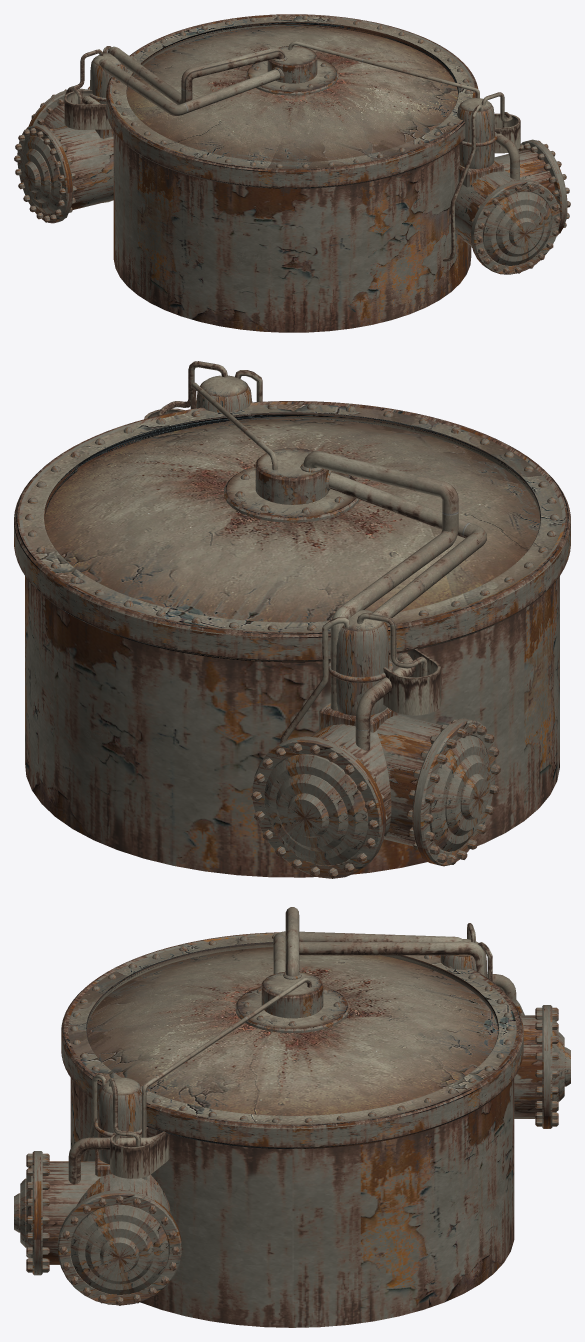
File: static.glb
3 views of the same model, one above another, from view 1: azimuth 30°, elevation 25°; view 2: azimuth 150°, elevation 25°; view 3: azimuth 270°, elevation 25° (orthographic). The views are drawn at different scales.
Parts seen in each view (by area): view 1: Cylinder_4_5, Cylinder_3_2, Tube, Cylinder_1_13, Sweep, Sweep_1, Cylinder_0, Tube_3, Cylinder_2_2, Cylinder_1_4, Cylinder_2, Tube_6 (+17 smaller); view 2: Cylinder_4_5, Cylinder_3_2, Tube, Sweep, Cylinder_0_5, Sweep_1, Tube_5, Cylinder_1_13, Cylinder_3_5, Cylinder, Cylinder_2, Tube_6 (+14 smaller); view 3: Cylinder_4_5, Cylinder_3_2, Tube, Cylinder_0_3, Sweep, Tube_4, Cylinder_1_4, Cylinder_2, Cylinder_1_5, Cylinder, Cylinder_2_2, Cylinder_1_10 (+9 smaller).
Part boxes in pixels (x1,y1,x2,y2): Cylinder_4_5: [113, 131, 471, 332]; Cylinder_3_2: [127, 26, 457, 162]; Tube: [106, 14, 478, 188]; Cylinder_1_13: [53, 126, 113, 209]; Sweep: [107, 46, 285, 104]; Sweep_1: [99, 59, 280, 115]; Cylinder_0: [483, 191, 552, 265]; Tube_3: [471, 179, 559, 274]; Cylinder_2_2: [457, 98, 494, 168]; Cylinder_1_4: [455, 170, 520, 246]; Cylinder_2: [246, 58, 338, 95]; Tube_6: [17, 124, 73, 223]; Cylinder_4_5: [25, 576, 559, 877]; Cylinder_3_2: [44, 418, 540, 622]; Tube: [14, 401, 570, 662]; Sweep: [303, 451, 458, 710]; Cylinder_0_5: [264, 754, 367, 865]; Sweep_1: [328, 472, 486, 617]; Tube_5: [252, 736, 385, 878]; Cylinder_1_13: [376, 715, 441, 846]; Cylinder_3_5: [336, 610, 389, 715]; Cylinder: [255, 448, 329, 504]; Cylinder_2: [224, 466, 359, 522]; Tube_6: [412, 718, 495, 866]; Cylinder_4_5: [70, 1078, 514, 1327]; Cylinder_3_2: [86, 947, 498, 1115]; Tube: [61, 932, 523, 1148]; Cylinder_0_3: [70, 1204, 168, 1294]; Sweep: [285, 907, 484, 976]; Tube_4: [57, 1190, 181, 1305]; Cylinder_1_4: [42, 1161, 101, 1264]; Cylinder_2: [235, 986, 349, 1033]; Cylinder_1_5: [85, 1221, 153, 1284]; Cylinder: [261, 971, 323, 1018]; Cylinder_2_2: [97, 1077, 142, 1164]; Cylinder_1_10: [514, 1015, 542, 1118].
Size of the model in its own units: 6.45 by 3.38 by 6.45.
Materials: 4 (4 with a texture image).
